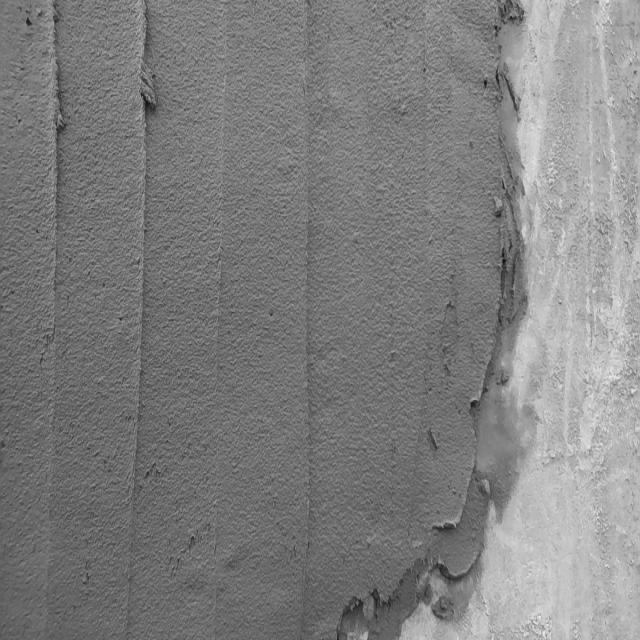trowels marks: (122, 1, 158, 606), (45, 1, 72, 362), (298, 153, 311, 615)
